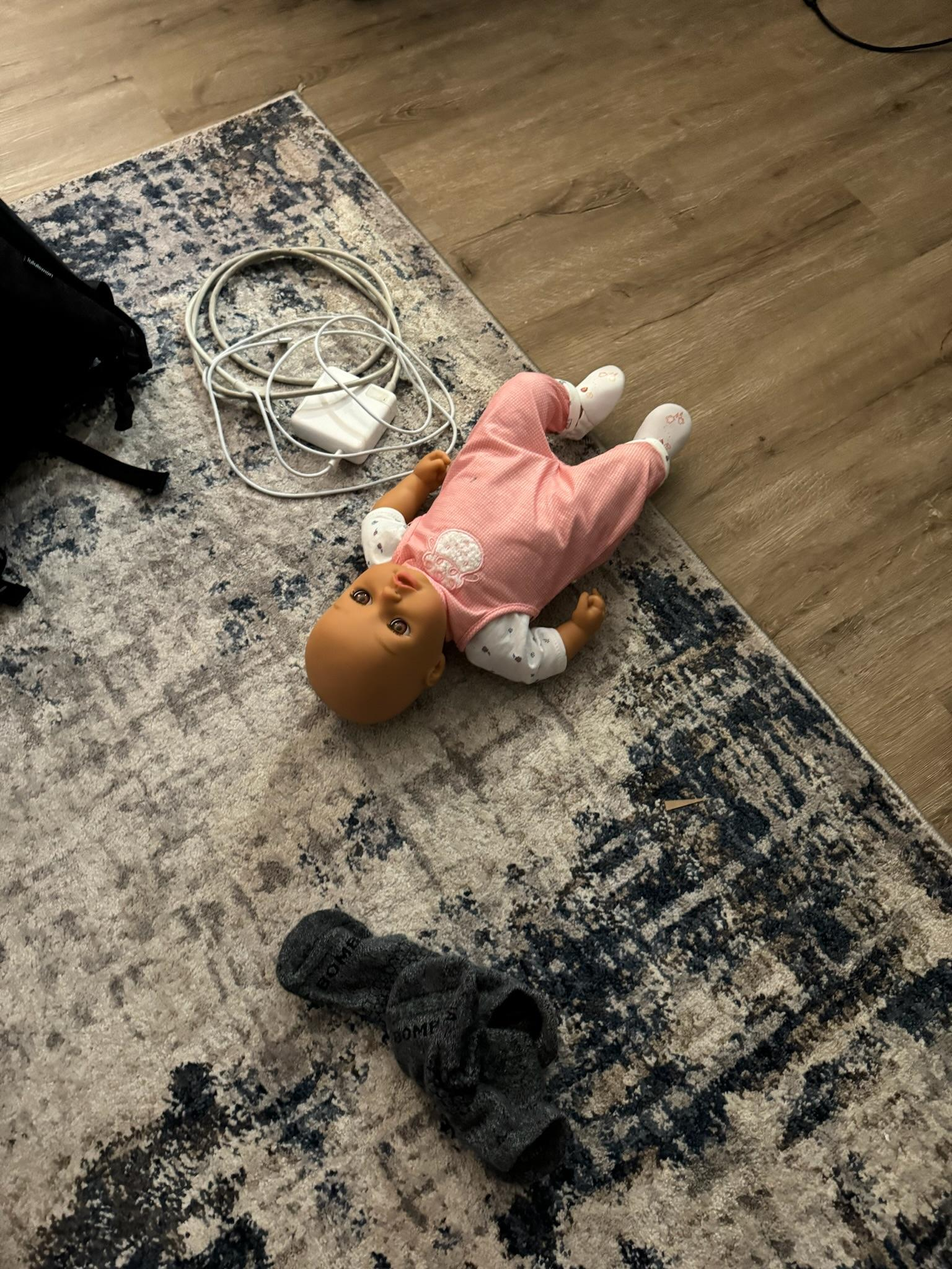baby: (302, 359, 702, 741)
